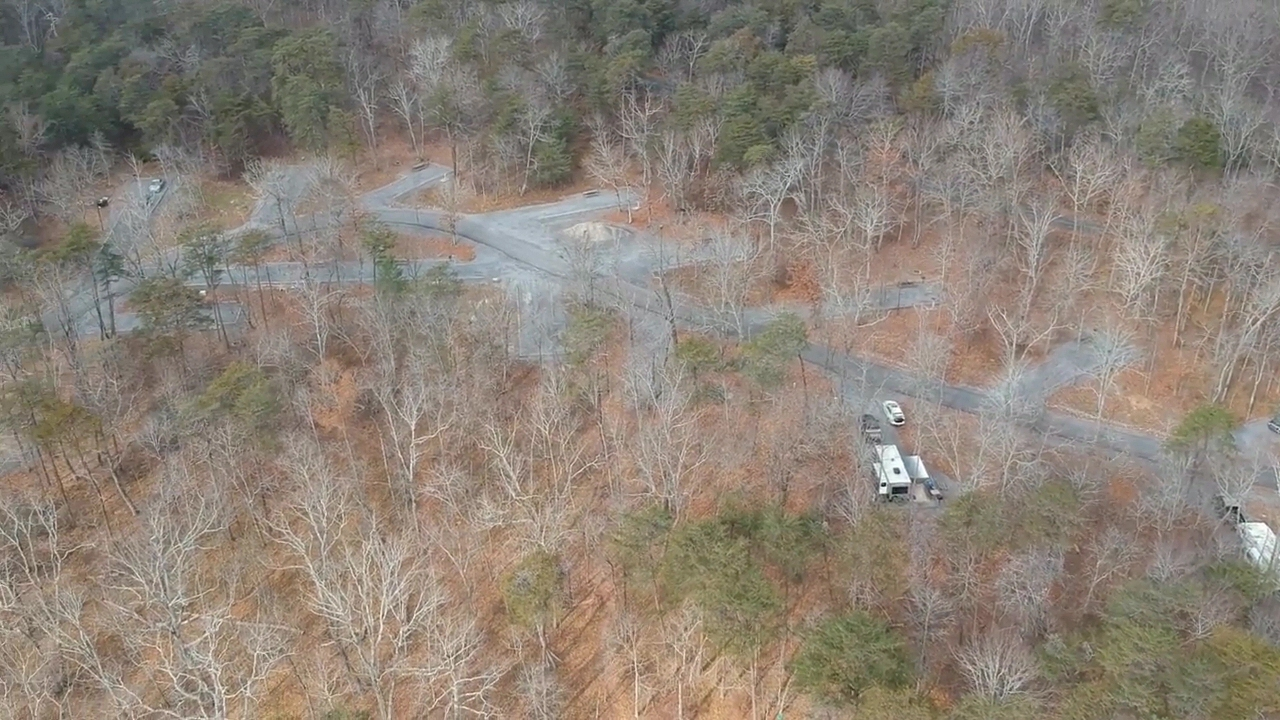araba: (858, 405, 888, 443), (886, 393, 910, 428), (149, 174, 166, 196)
